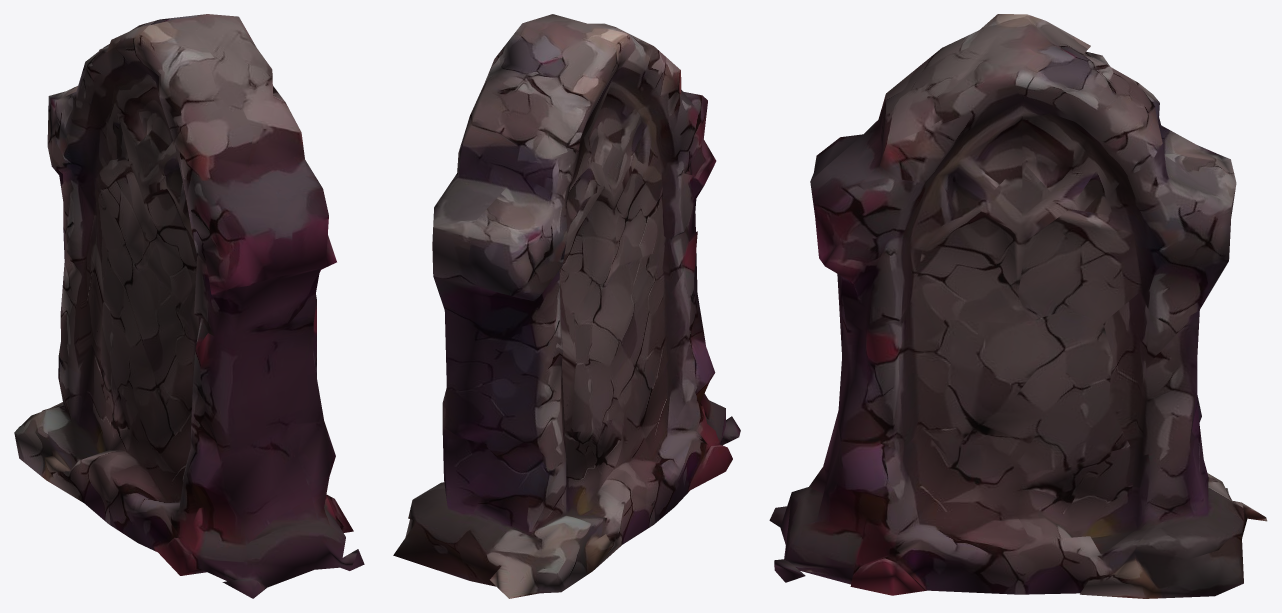
The model's file is gravestone.glb.
3 views of the same model, side by side, from view 1: azimuth 30°, elevation 25°; view 2: azimuth 150°, elevation 25°; view 3: azimuth 270°, elevation 25° (orthographic). The views are drawn at different scales.
Visible parts, largest first — view 1: tripo_node_1401dc84-3e4e-4925-837c-5ad22c160848; view 2: tripo_node_1401dc84-3e4e-4925-837c-5ad22c160848; view 3: tripo_node_1401dc84-3e4e-4925-837c-5ad22c160848.
Part boxes in pixels (box(x1,y1,x2,y2)): tripo_node_1401dc84-3e4e-4925-837c-5ad22c160848: box(14, 14, 364, 598); tripo_node_1401dc84-3e4e-4925-837c-5ad22c160848: box(393, 14, 740, 598); tripo_node_1401dc84-3e4e-4925-837c-5ad22c160848: box(769, 14, 1267, 598).
Bounding box in the file's own units: 0.3825 × 0.9991 × 0.8654.
1 material, 1 textured.
